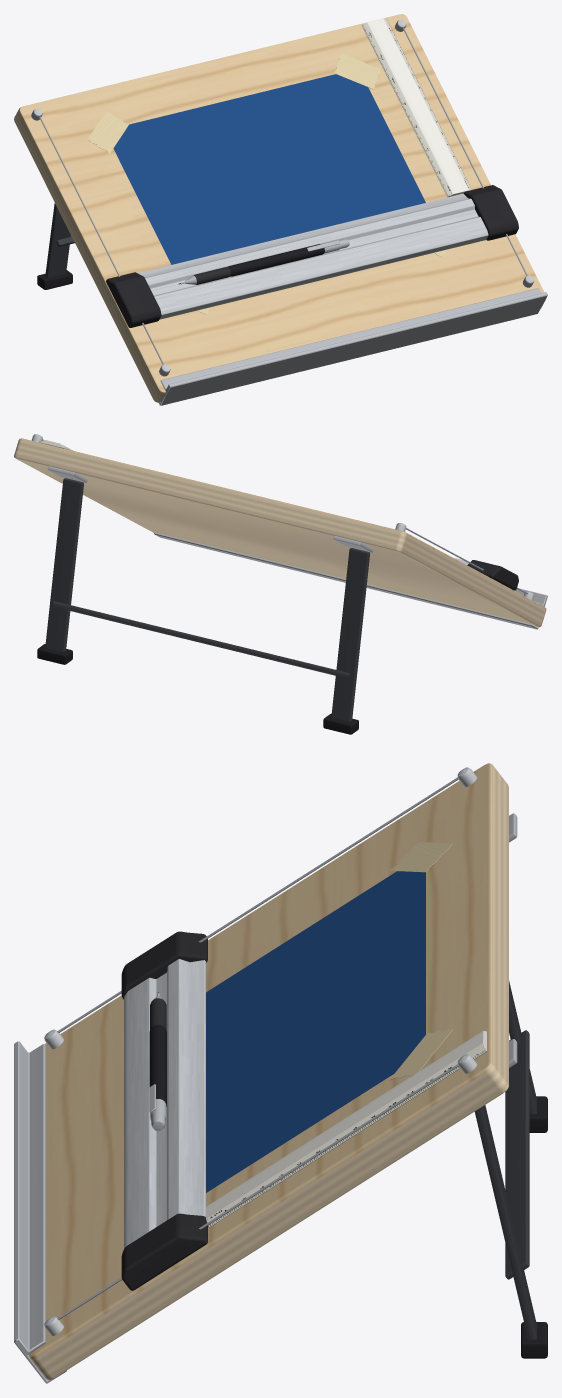
File: devops.glb
3 views of the same model, one above another, from view 1: azimuth 30°, elevation 25°; view 2: azimuth 150°, elevation 25°; view 3: azimuth 270°, elevation 25° (orthographic). The views are drawn at different scales.
Visible parts, largest first — view 1: arq_tampo, arq_folha, arq_regua, arq_escalimetro; view 2: arq_tampo, arq_regua; view 3: arq_tampo, arq_folha, arq_regua, arq_escalimetro.
Boxes of the visible parts, box(x1,y1,x2,y2) form: arq_tampo: box(14, 14, 547, 405); arq_folha: box(113, 74, 425, 264); arq_regua: box(106, 185, 518, 327); arq_escalimetro: box(361, 18, 471, 197); arq_tampo: box(14, 434, 547, 734); arq_regua: box(453, 557, 518, 590); arq_tampo: box(14, 763, 547, 1383); arq_folha: box(206, 871, 425, 1192); arq_regua: box(121, 931, 207, 1290); arq_escalimetro: box(206, 1031, 486, 1227).
Size of the model in its own units: 0.384 by 0.1907 by 0.2833.
2 materials, 1 textured.
